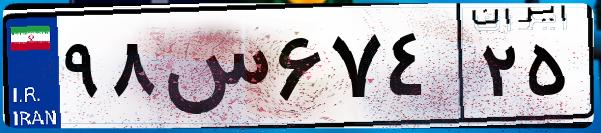2: (475, 38, 525, 113)
4: (385, 28, 445, 110)
5: (525, 38, 570, 115)
6: (270, 28, 330, 110)
7: (330, 28, 385, 110)
8: (110, 28, 158, 98)
9: (57, 26, 110, 100)
س: (158, 20, 270, 120)
